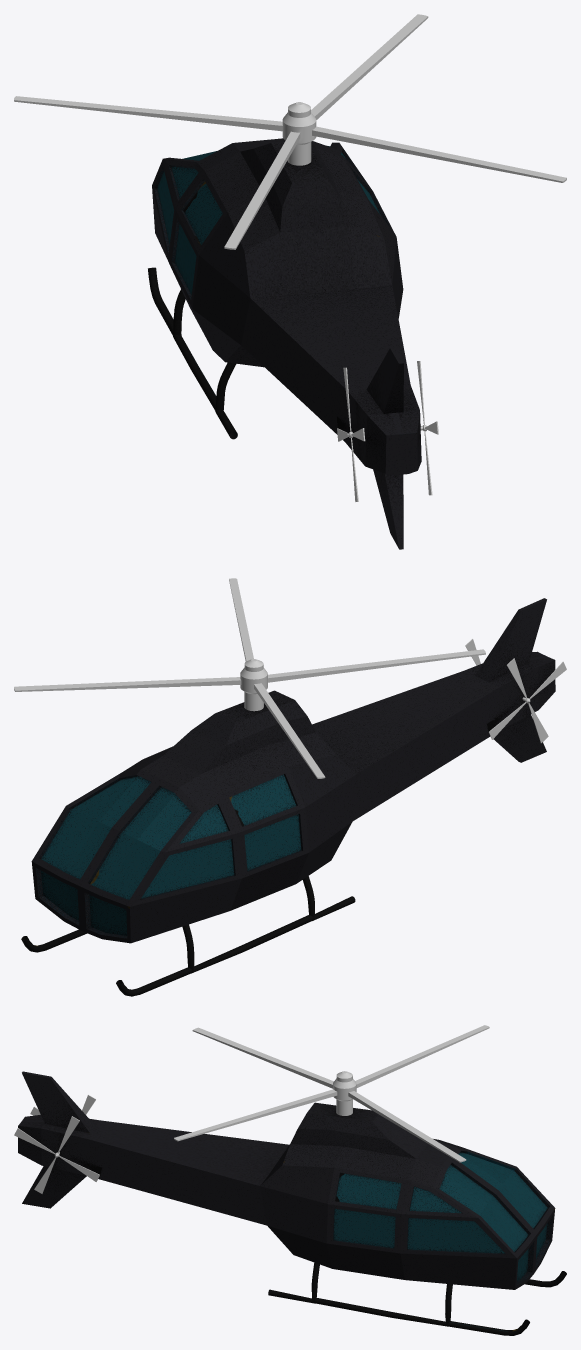
The model's file is anim_000108.obj.
The picture shows the model from 3 angles, top to bottom: view 1: azimuth 30°, elevation 25°; view 2: azimuth 150°, elevation 25°; view 3: azimuth 270°, elevation 25°; orthographic projection. The views are drawn at different scales.
Parts seen in each view (by area): view 1: Helicopter.007_Cylinder.008, Helicopter.001_Cylinder.001; view 2: Helicopter.007_Cylinder.008, Helicopter.001_Cylinder.001, Helicopter.003_Cylinder.004; view 3: Helicopter.007_Cylinder.008, Helicopter.001_Cylinder.001, Helicopter.004_Cylinder.005.
Part boxes in pixels (box(x1,y1,x2,y2)): Helicopter.007_Cylinder.008: box(148, 138, 421, 549); Helicopter.001_Cylinder.001: box(14, 14, 566, 249); Helicopter.007_Cylinder.008: box(21, 598, 555, 996); Helicopter.001_Cylinder.001: box(14, 578, 485, 778); Helicopter.003_Cylinder.004: box(489, 658, 566, 743); Helicopter.007_Cylinder.008: box(18, 1071, 566, 1335); Helicopter.001_Cylinder.001: box(174, 1025, 489, 1162); Helicopter.004_Cylinder.005: box(14, 1116, 99, 1193).
Size of the model in its own units: 4.37 by 3.21 by 7.49.
